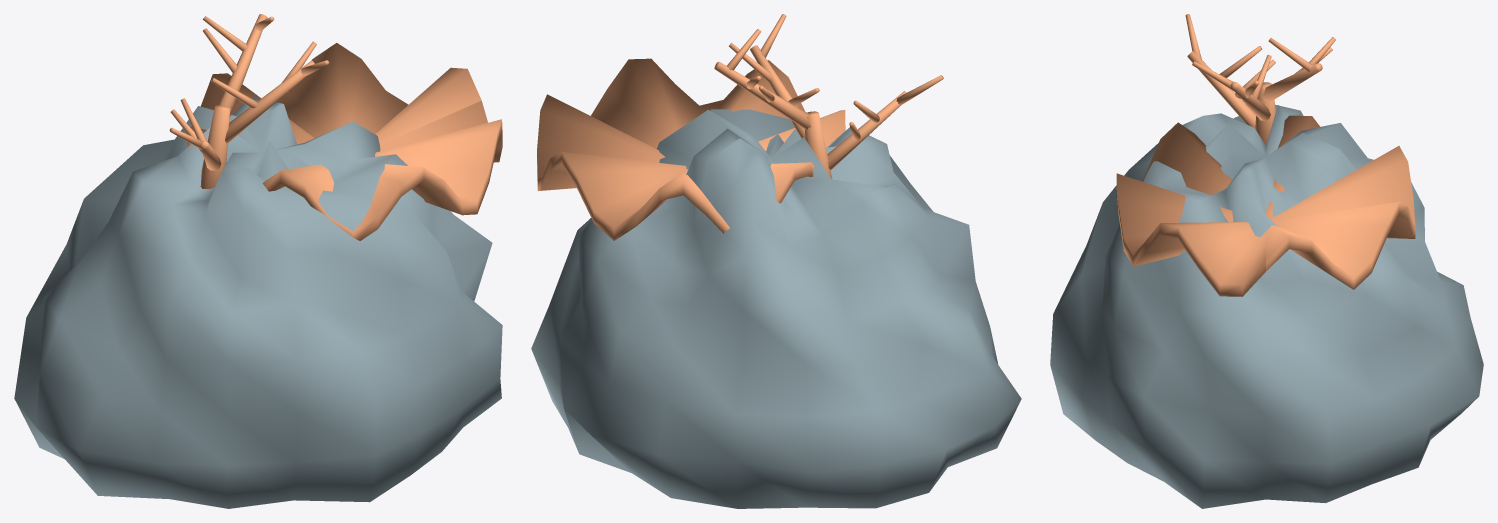
File: underwater-reef-worlds-coral-bommie-small-3cf1baf7__7045.glb
The picture shows the model from 3 angles, left to right: view 1: azimuth 30°, elevation 25°; view 2: azimuth 150°, elevation 25°; view 3: azimuth 270°, elevation 25°; orthographic projection. The views are drawn at different scales.
Parts seen in each view (by area): view 1: coral-bommie-small; view 2: coral-bommie-small; view 3: coral-bommie-small.
Boxes of the visible parts, x1,y1,x2,y2 form: coral-bommie-small: (14, 14, 502, 508); coral-bommie-small: (531, 14, 1021, 508); coral-bommie-small: (1050, 14, 1483, 508).
Bounding box in the file's own units: 1.63 × 1.41 × 1.45.
